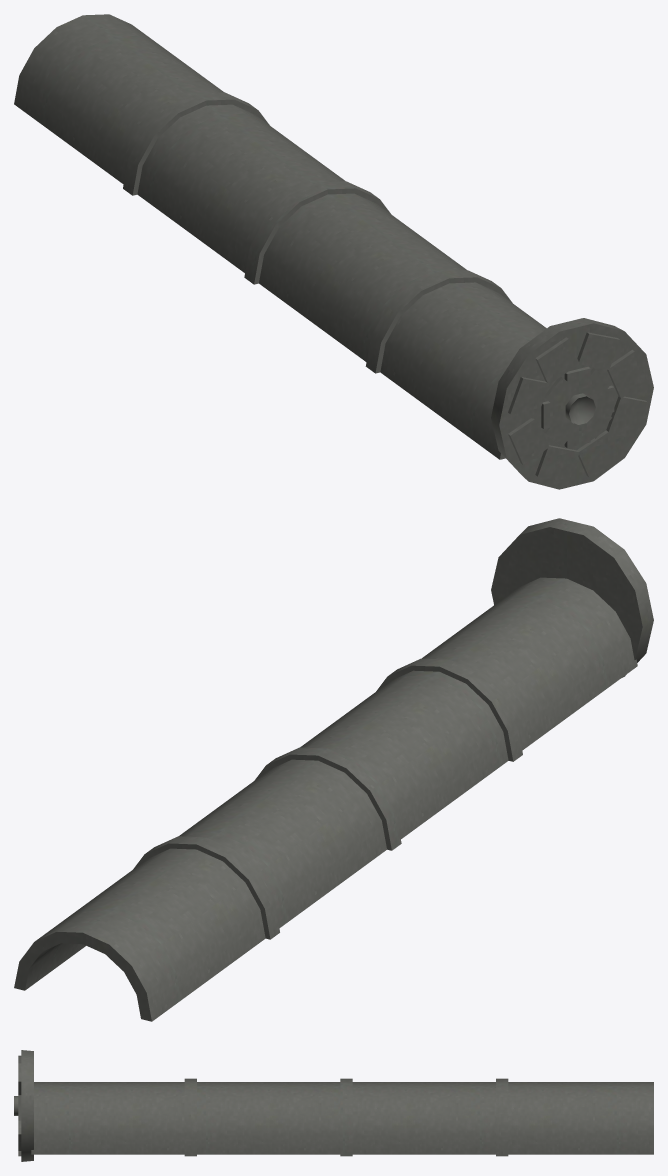
The model's file is wa-tongwa-walong.glb.
The picture shows the model from 3 angles, top to bottom: view 1: azimuth 30°, elevation 25°; view 2: azimuth 150°, elevation 25°; view 3: azimuth 270°, elevation 25°; orthographic projection. The views are drawn at different scales.
Parts seen in each view (by area): view 1: walong, wadang; view 2: walong, wadang; view 3: walong, wadang.
Part boxes in pixels (x1,y1,x2,y2): walong: (14,14,546,459); wadang: (491,318,653,489); walong: (14,577,637,1021); wadang: (491,518,653,677); walong: (31,1078,653,1156); wadang: (14,1050,33,1161).
Size of the model in its own units: 0.184 by 0.1794 by 1.03.
Materials: 1 (1 with a texture image).
